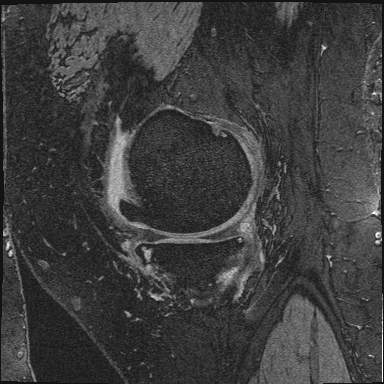effusion: (110, 137, 126, 207)
